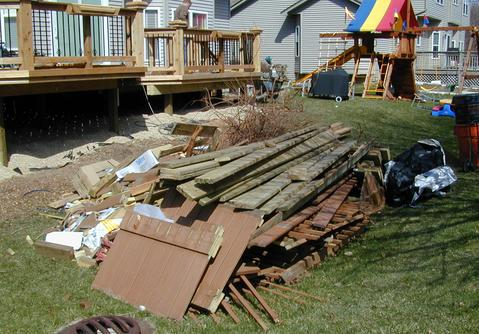wood: (87, 208, 221, 321), (157, 156, 334, 211)
